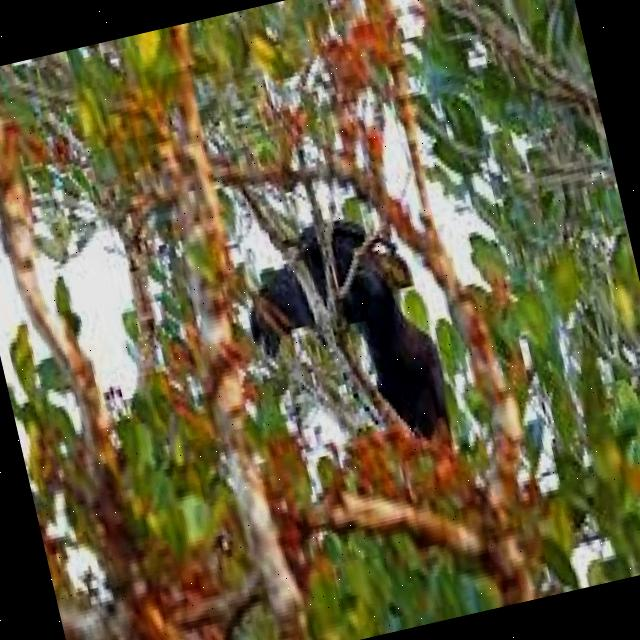Nuri Hitam: (328, 248, 490, 478), (220, 202, 396, 374)
